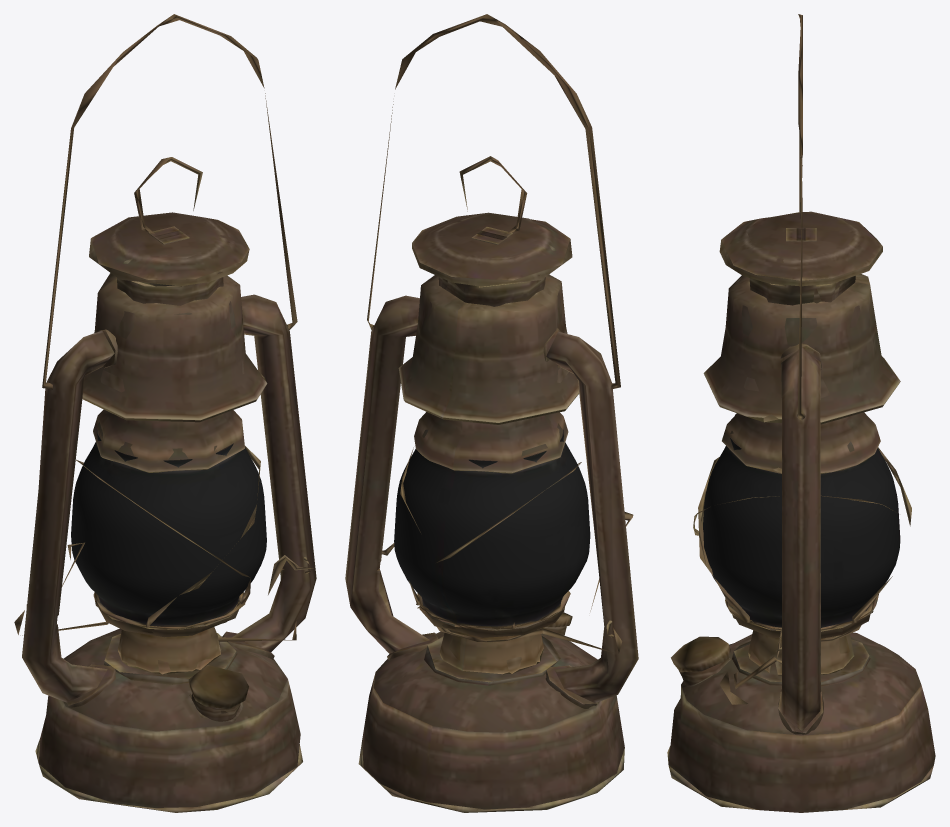
File: lantern.glb
The picture shows the model from 3 angles, left to right: view 1: azimuth 30°, elevation 25°; view 2: azimuth 150°, elevation 25°; view 3: azimuth 270°, elevation 25°; orthographic projection.
Visible parts, largest first — view 1: Lantern_01, Lantern_01_glass; view 2: Lantern_01, Lantern_01_glass; view 3: Lantern_01, Lantern_01_glass.
Part boxes in pixels (box(x1,y1,x2,y2)): Lantern_01: box(14, 14, 316, 812); Lantern_01_glass: box(71, 428, 266, 625); Lantern_01: box(345, 14, 638, 812); Lantern_01_glass: box(394, 429, 590, 626); Lantern_01: box(667, 14, 935, 812); Lantern_01_glass: box(703, 437, 900, 627).
Bounding box in the file's own units: 0.1219 × 0.2939 × 0.0954.
2 materials, 2 textured.
